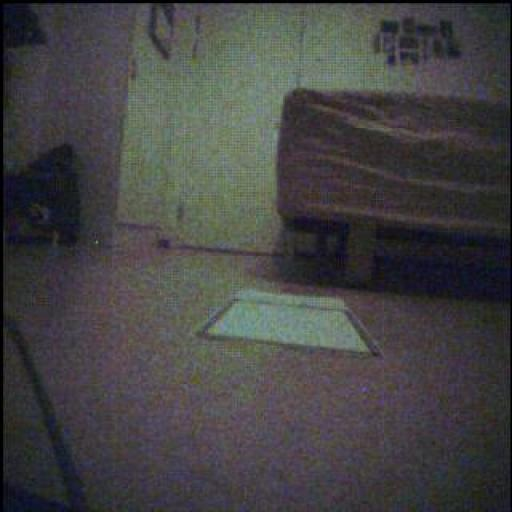pad: (199, 291, 382, 356)
